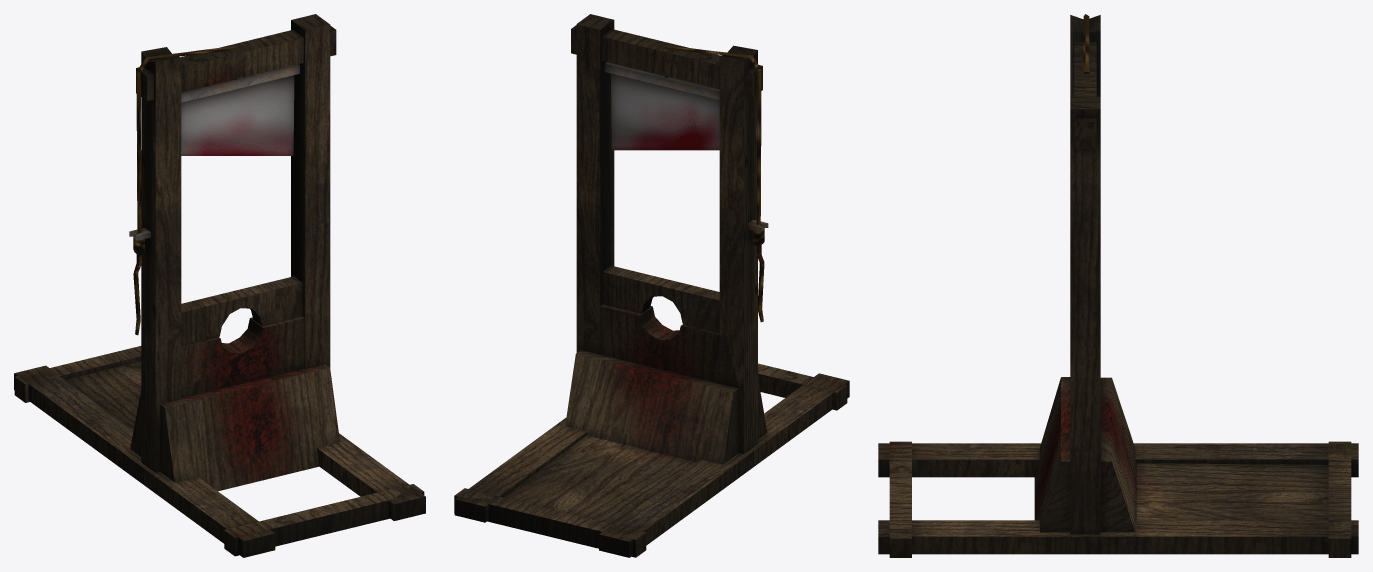
Rendered from guillotine.obj.
The picture shows the model from 3 angles, left to right: view 1: azimuth 30°, elevation 25°; view 2: azimuth 150°, elevation 25°; view 3: azimuth 270°, elevation 25°; orthographic projection. The views are drawn at different scales.
Visible parts, largest first — view 1: Group; view 2: Group; view 3: Group.
Boxes of the visible parts, bbox=[...] form: Group: bbox=[14, 14, 425, 557]; Group: bbox=[454, 14, 849, 557]; Group: bbox=[878, 14, 1358, 557].
Size of the model in its own units: 32.11 by 66.59 by 64.46.
Materials: 1 (1 with a texture image).
